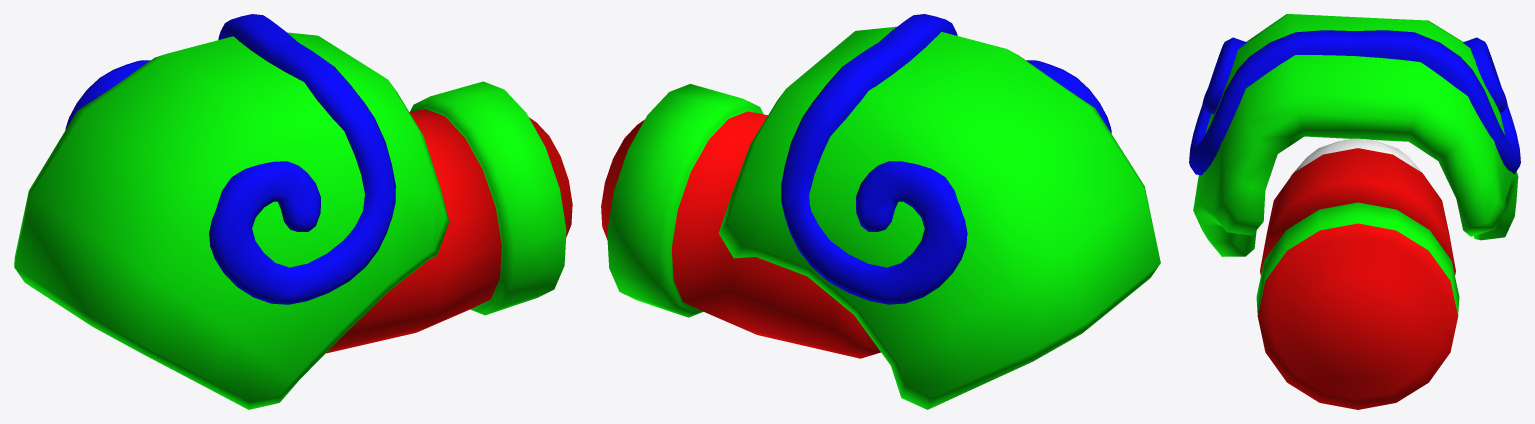
The model's file is Ronin_Upperarm.fbx.
3 renders of one model, left to right at view 1: azimuth 30°, elevation 25°; view 2: azimuth 150°, elevation 25°; view 3: azimuth 270°, elevation 25°, orthographic. The views are drawn at different scales.
Visible parts, largest first — view 1: Samurai_Upperarm; view 2: Samurai_Upperarm; view 3: Samurai_Upperarm.
Boxes of the visible parts, x1,y1,x2,y2 form: Samurai_Upperarm: [14, 14, 572, 409]; Samurai_Upperarm: [601, 14, 1160, 409]; Samurai_Upperarm: [1189, 14, 1520, 409].
Bounding box in the file's own units: 35.09 × 21.23 × 22.87.
